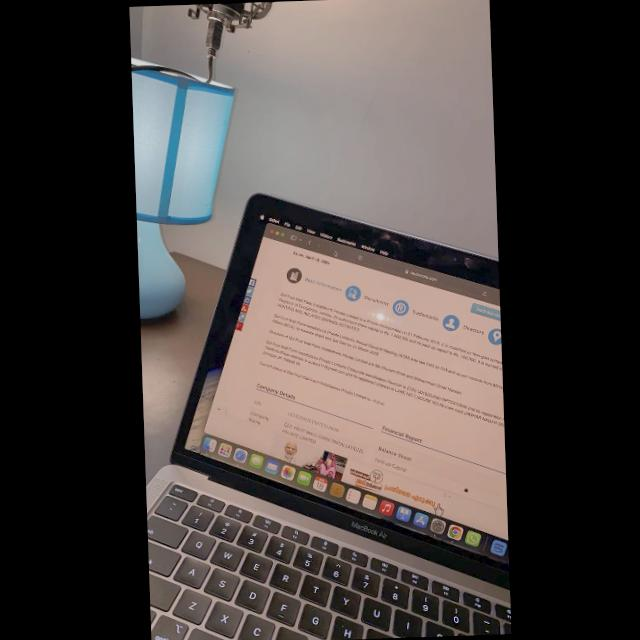laptop: (147, 193, 511, 640)
